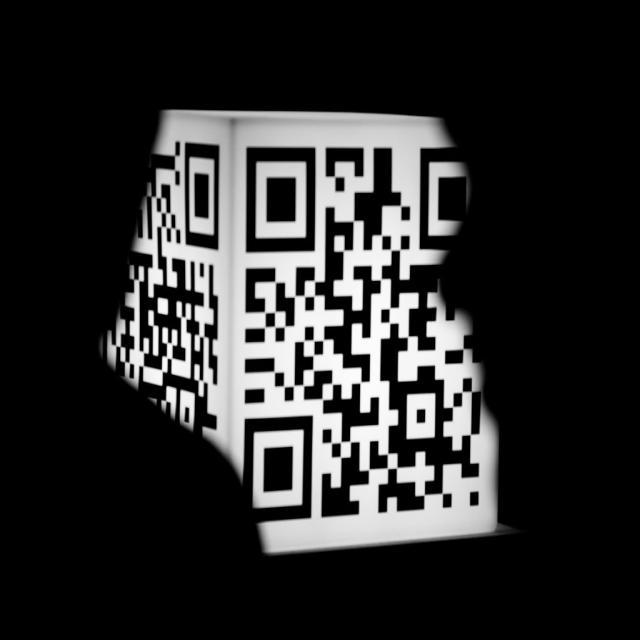qr-code: (242, 145, 482, 522), (102, 140, 220, 448)
